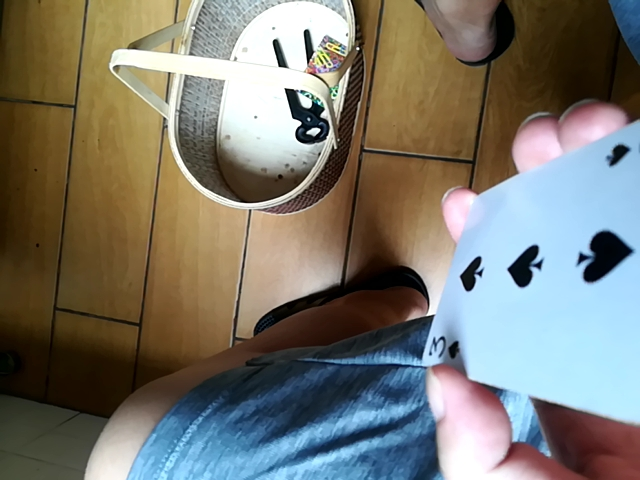ht 3: (425, 104, 635, 431)
